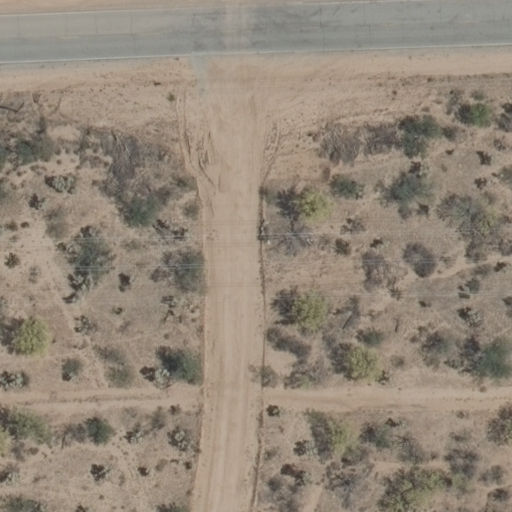DT: (8, 97, 32, 118)
